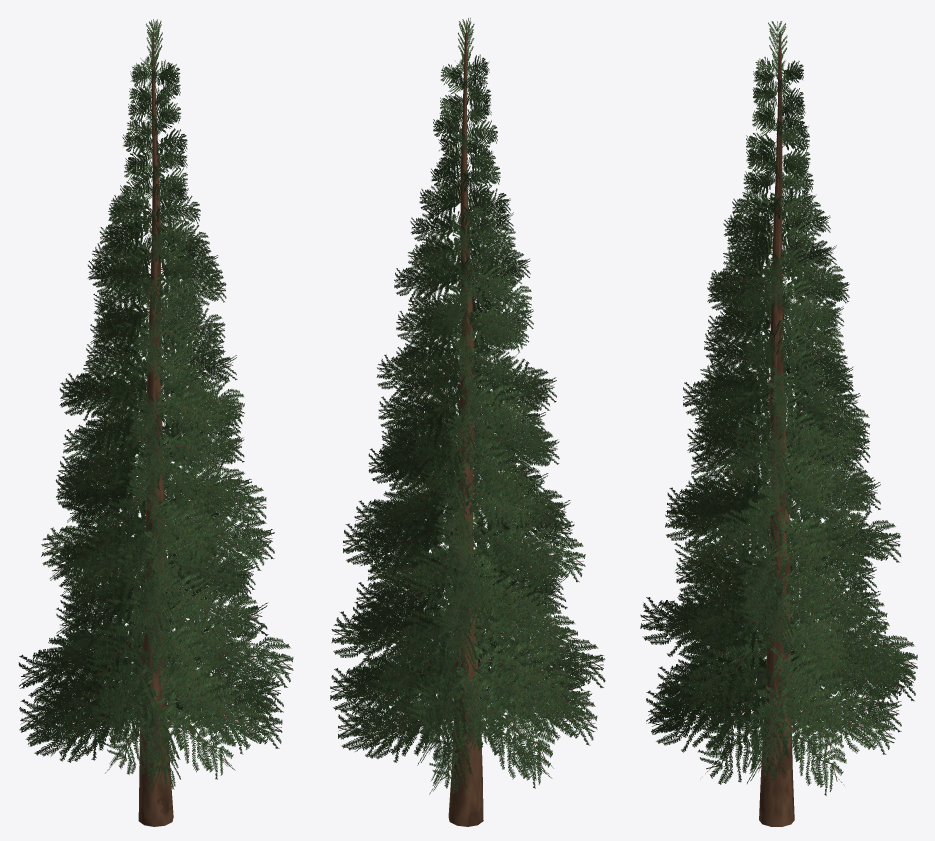
The model's file is veg_douglas_fir_b.fbx.
3 renders of one model, left to right at view 1: azimuth 30°, elevation 25°; view 2: azimuth 150°, elevation 25°; view 3: azimuth 270°, elevation 25°, orthographic.
Parts seen in each view (by area): view 1: veg_douglas_fir_b_LOD0; view 2: veg_douglas_fir_b_LOD0; view 3: veg_douglas_fir_b_LOD0.
Boxes of the visible parts, left/top/right/bottom form: veg_douglas_fir_b_LOD0: left=18, top=19, right=293, bottom=826; veg_douglas_fir_b_LOD0: left=330, top=18, right=605, bottom=826; veg_douglas_fir_b_LOD0: left=640, top=21, right=917, bottom=826.
Size of what is drawn, in the model's own units: 6.68 by 20.73 by 6.68.
2 materials, 2 textured.
